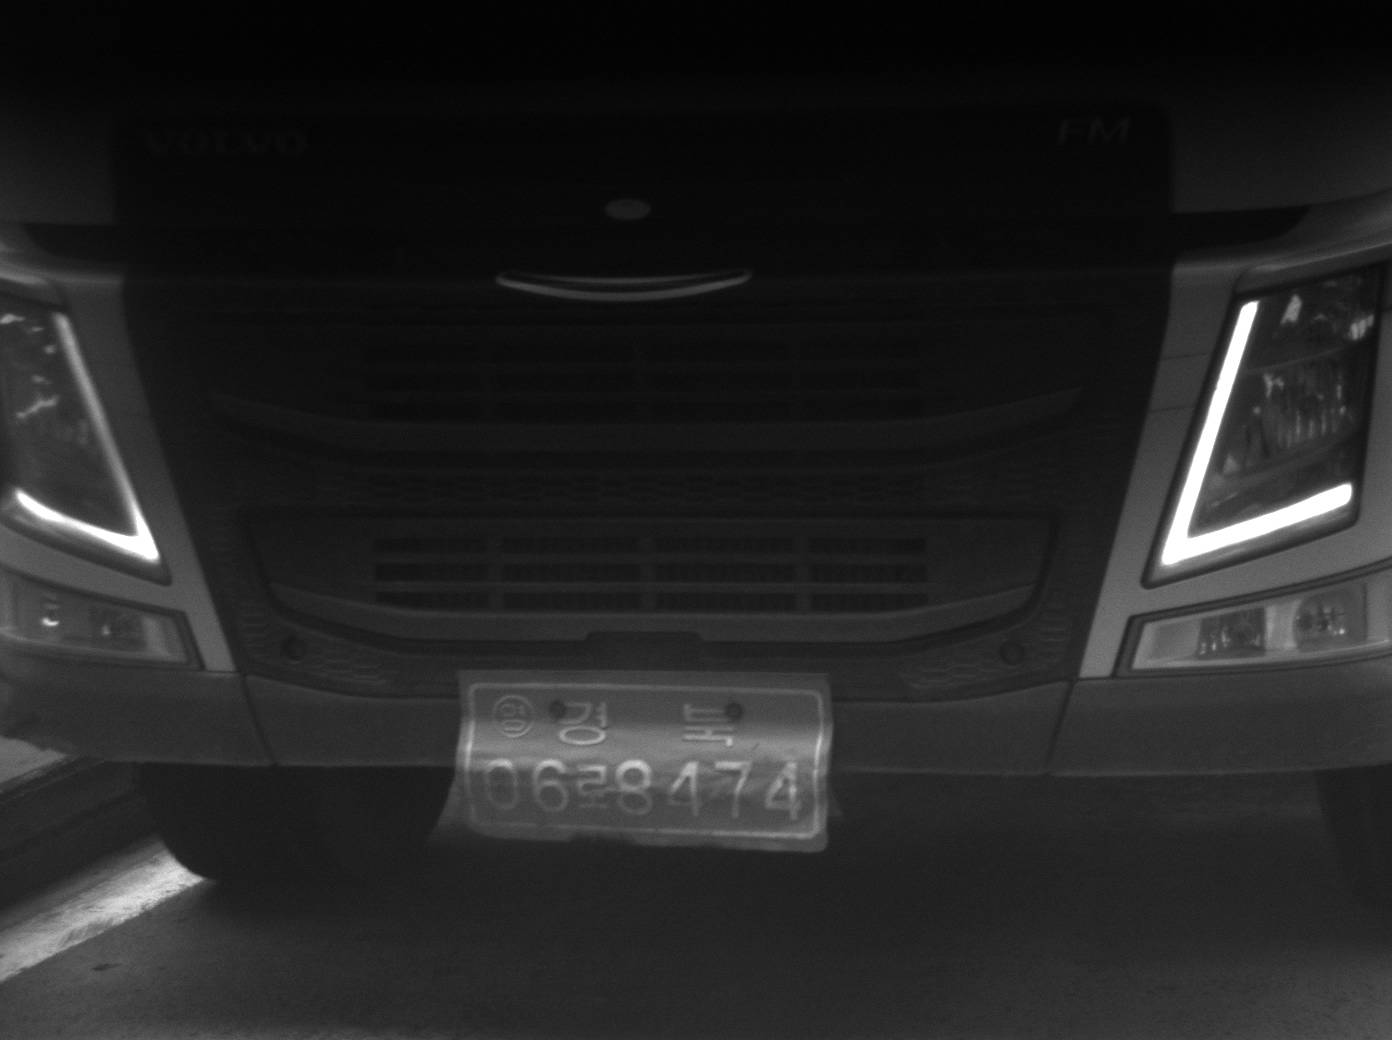car: (1, 1, 1391, 930)
plate: (448, 664, 836, 850)
